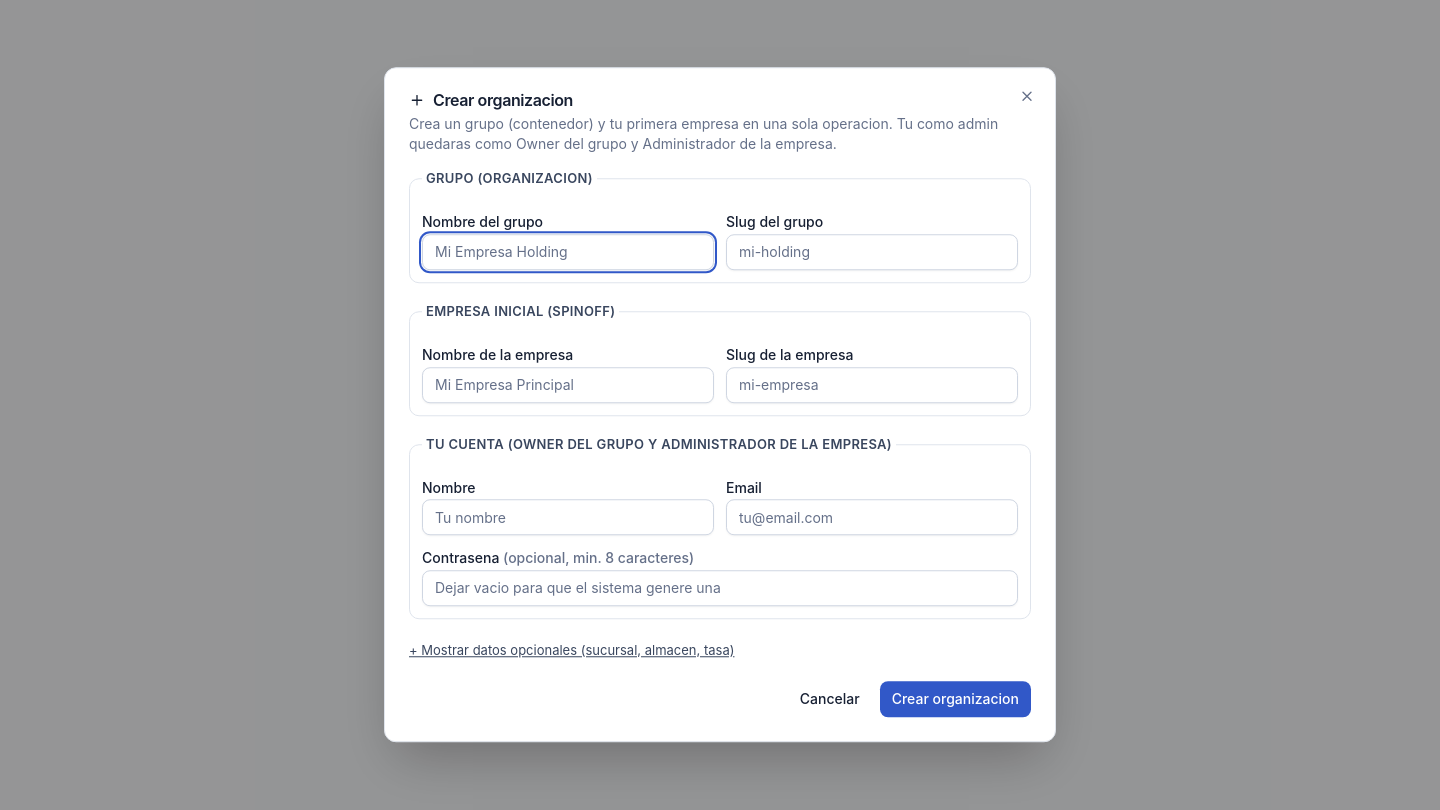
it: CreateGroupDialog › muestra errores cuando se submit sin campos requeridos
Click the button with test id "create-group-submit" at (955,700), box [880,682,1031,718]
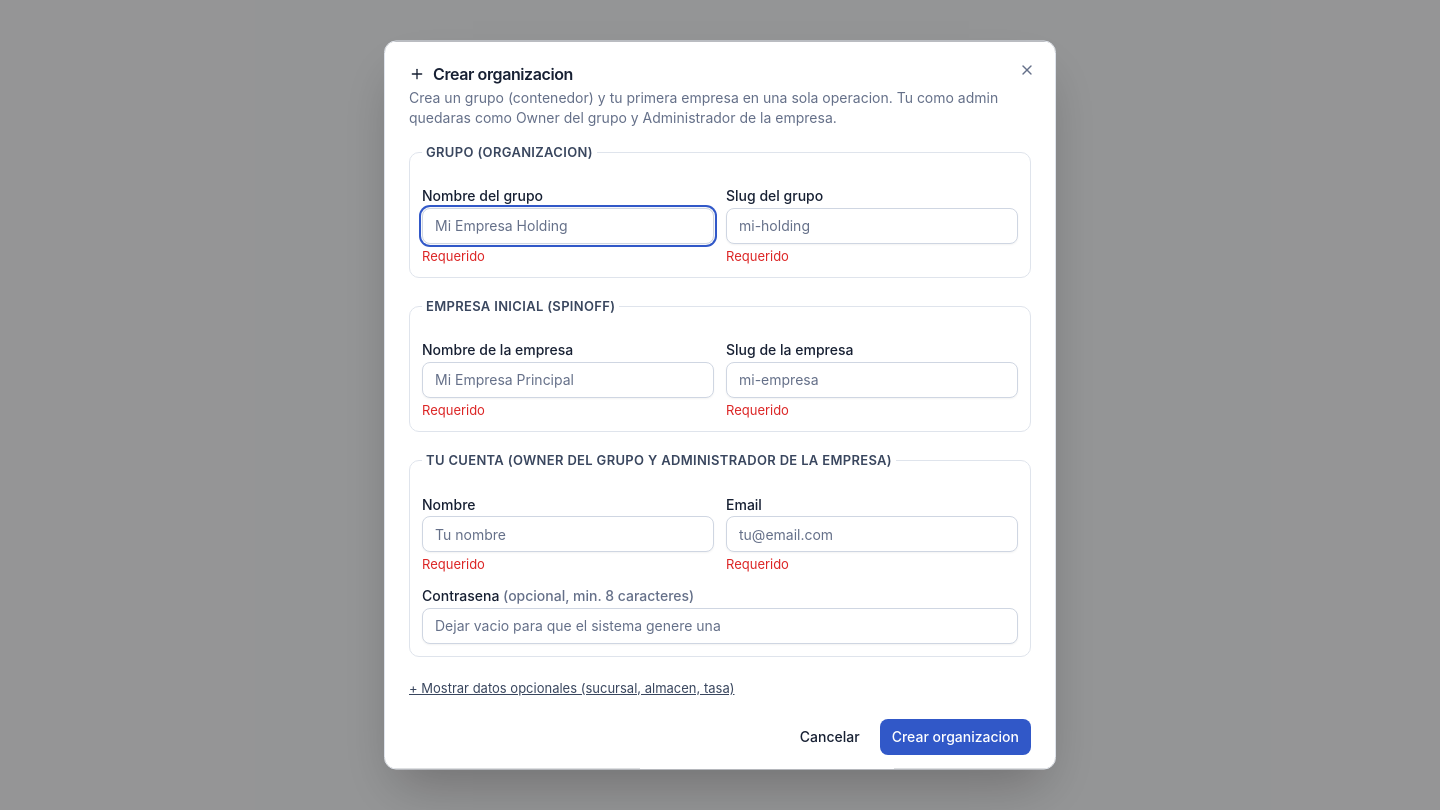
Check: the text "Requerido" below "Nombre del grupo" is shown, box [422,247,485,263]
